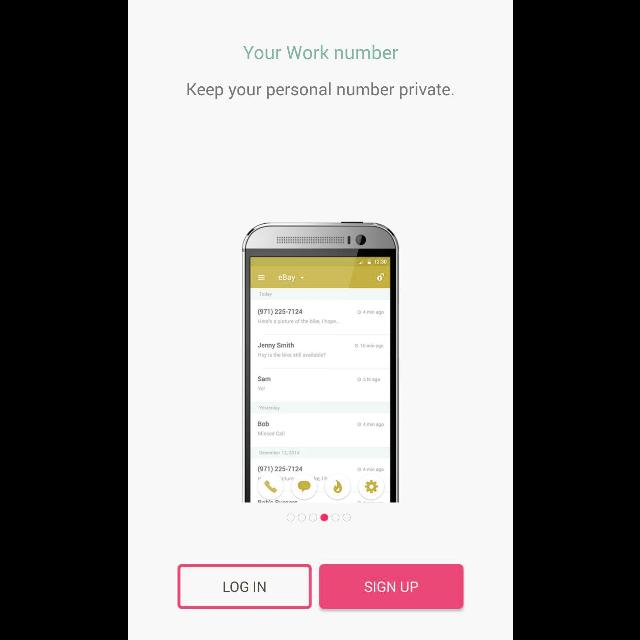image: (240, 222, 400, 502)
pageindicator: (286, 513, 350, 521)
text: (187, 82, 453, 100), (242, 44, 398, 60)
textbutton: (318, 564, 464, 608), (177, 564, 311, 608)
